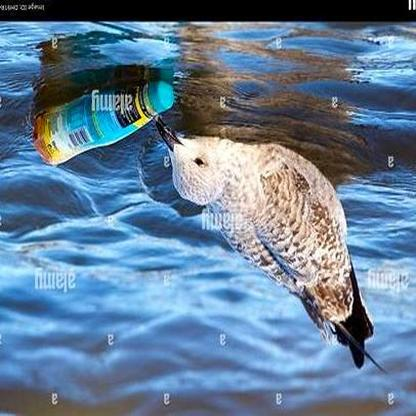plastic bottle: (30, 81, 174, 166)
